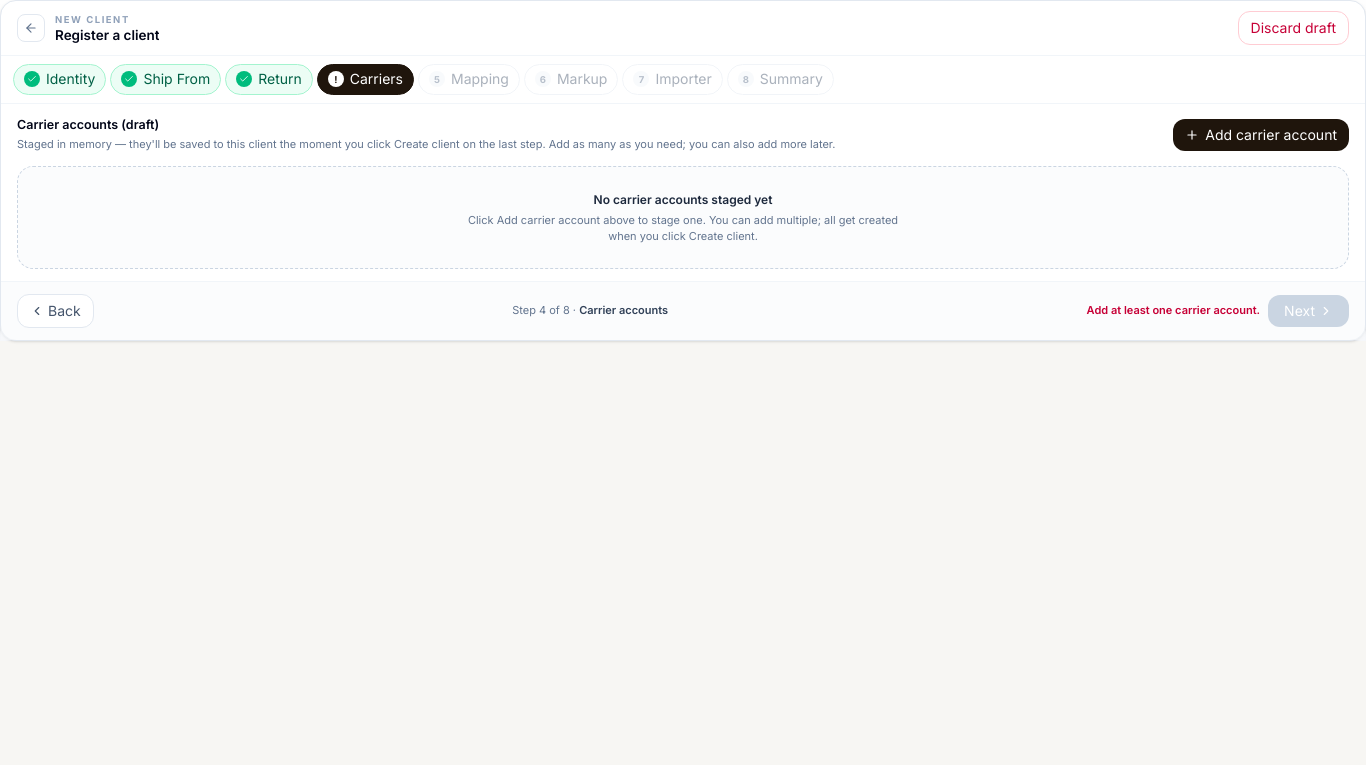
Test: CarrierDraftStep — positive cases › picking THIRD_PARTY clearance reveals the third-party billing panel
Expected: the heading "Carrier accounts (draft)" is shown, [17,117,159,132]
Click the button "Add carrier account" at (1261, 135), box [1173,118,1349,151]
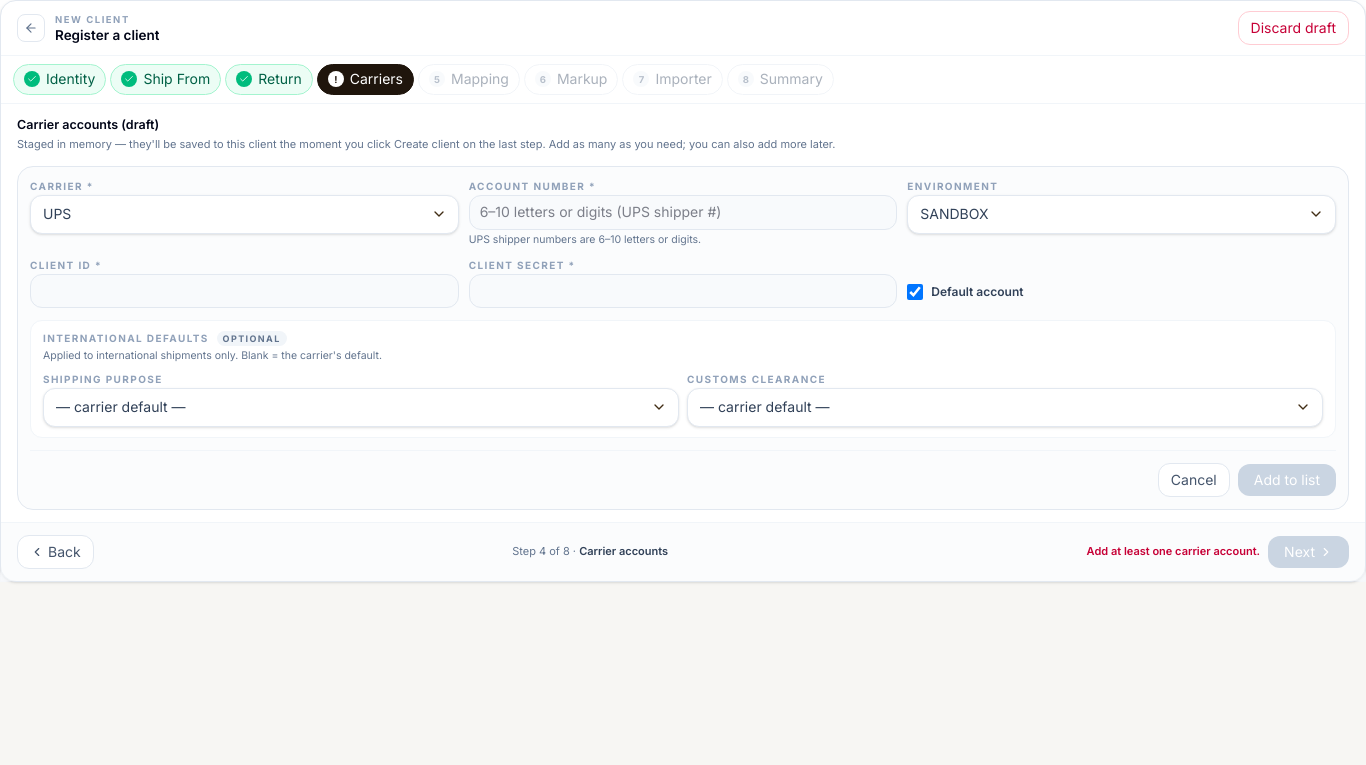
Expected: the text "Third-party billing" is not shown
Select "Third party" in the dropdown labelled "Customs clearance" at (1005, 407), box [687,388,1323,427]
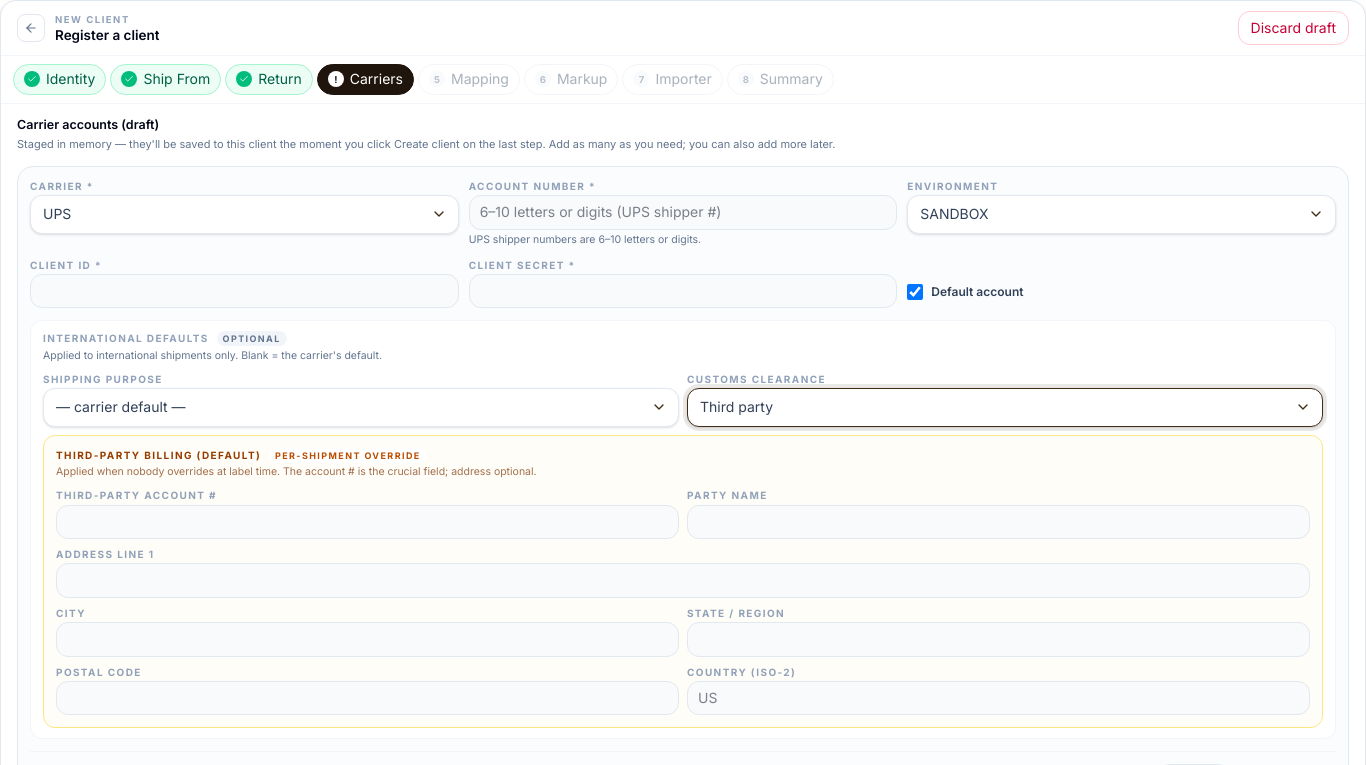
Expected: the text "Third-party billing (default) per-shipment override" is shown, [56,448,427,463]
Expected: the text "Third-party account #" is shown, [56,489,217,501]
